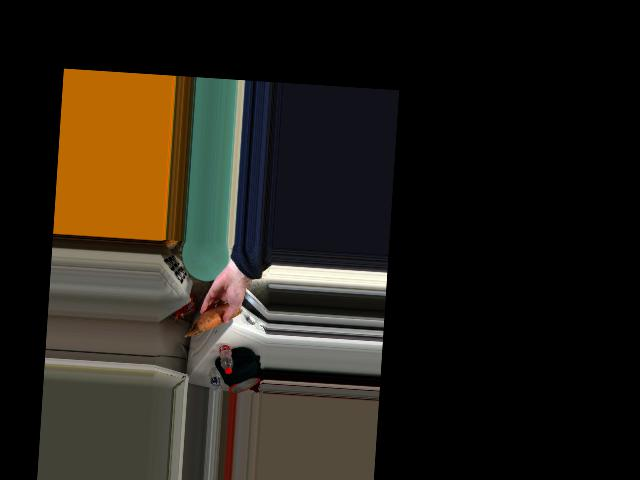sweet_potato: (198, 302, 233, 331)
